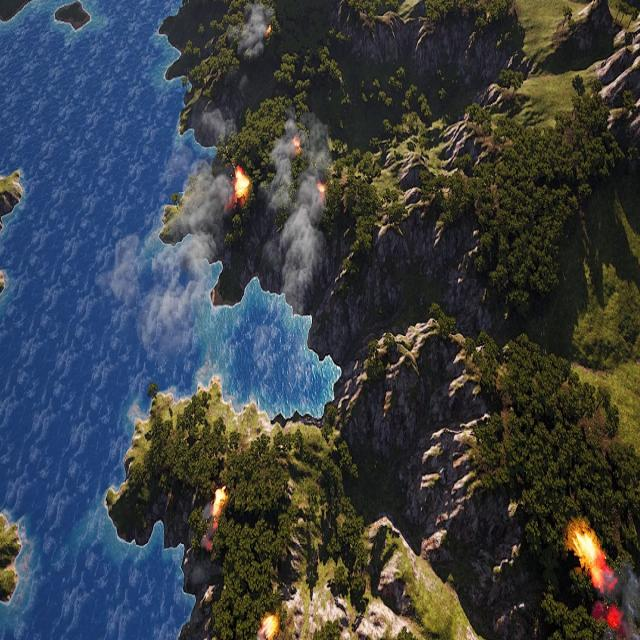fire: (572, 528, 599, 566), (234, 168, 250, 202), (214, 488, 228, 516), (263, 615, 279, 639), (317, 181, 326, 199), (291, 137, 300, 154), (267, 24, 273, 36)
smoke: (108, 168, 232, 381), (258, 110, 328, 319), (593, 561, 640, 640), (236, 2, 272, 60), (200, 106, 237, 143), (199, 500, 219, 551)
